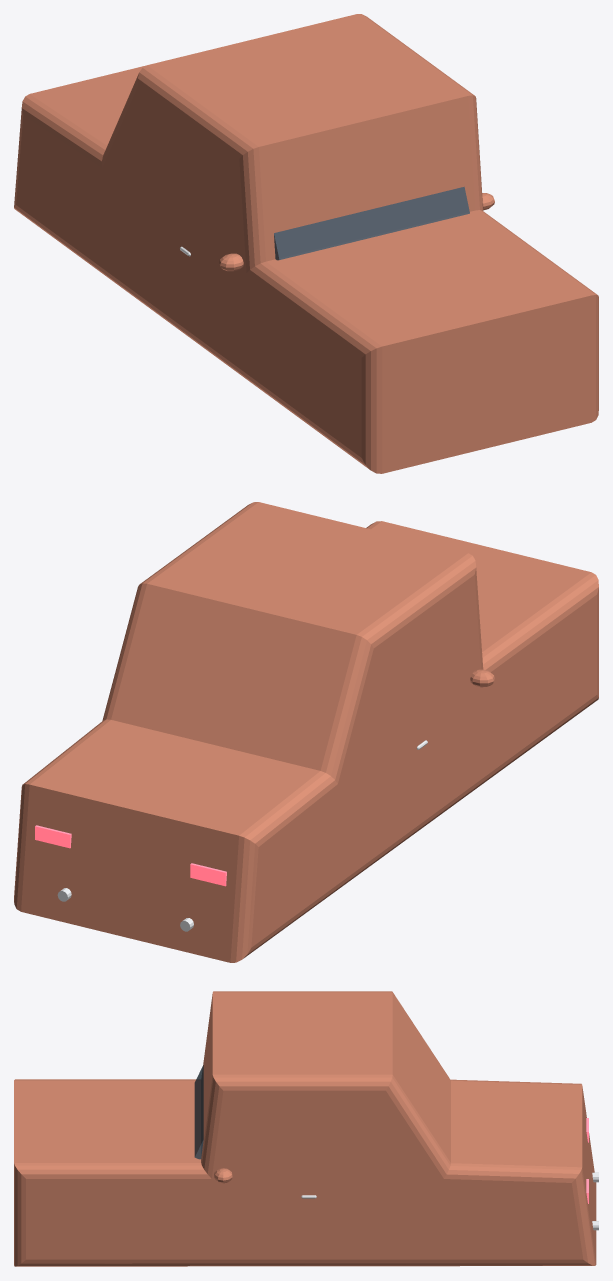
File: veh_boiadeiro.glb
3 renders of one model, top to bottom at view 1: azimuth 30°, elevation 25°; view 2: azimuth 150°, elevation 25°; view 3: azimuth 270°, elevation 25°, orthographic. The views are drawn at different scales.
Visible parts, largest first — view 1: veh_boiadeiro; view 2: veh_boiadeiro; view 3: veh_boiadeiro.
Boxes of the visible parts, x1,y1,x2,y2 form: veh_boiadeiro: (14,14,598,473); veh_boiadeiro: (14,502,598,962); veh_boiadeiro: (14,991,598,1266).
Bounding box in the file's own units: 2.33 × 1.92 × 5.34.
